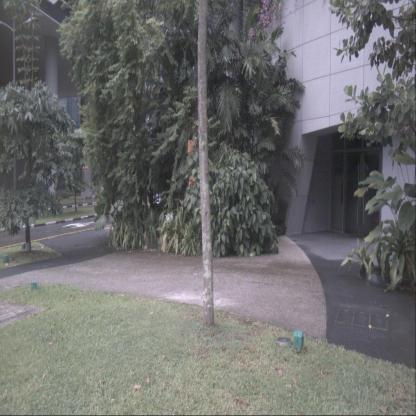human-pedestrian-adult: (88, 181, 96, 206)
